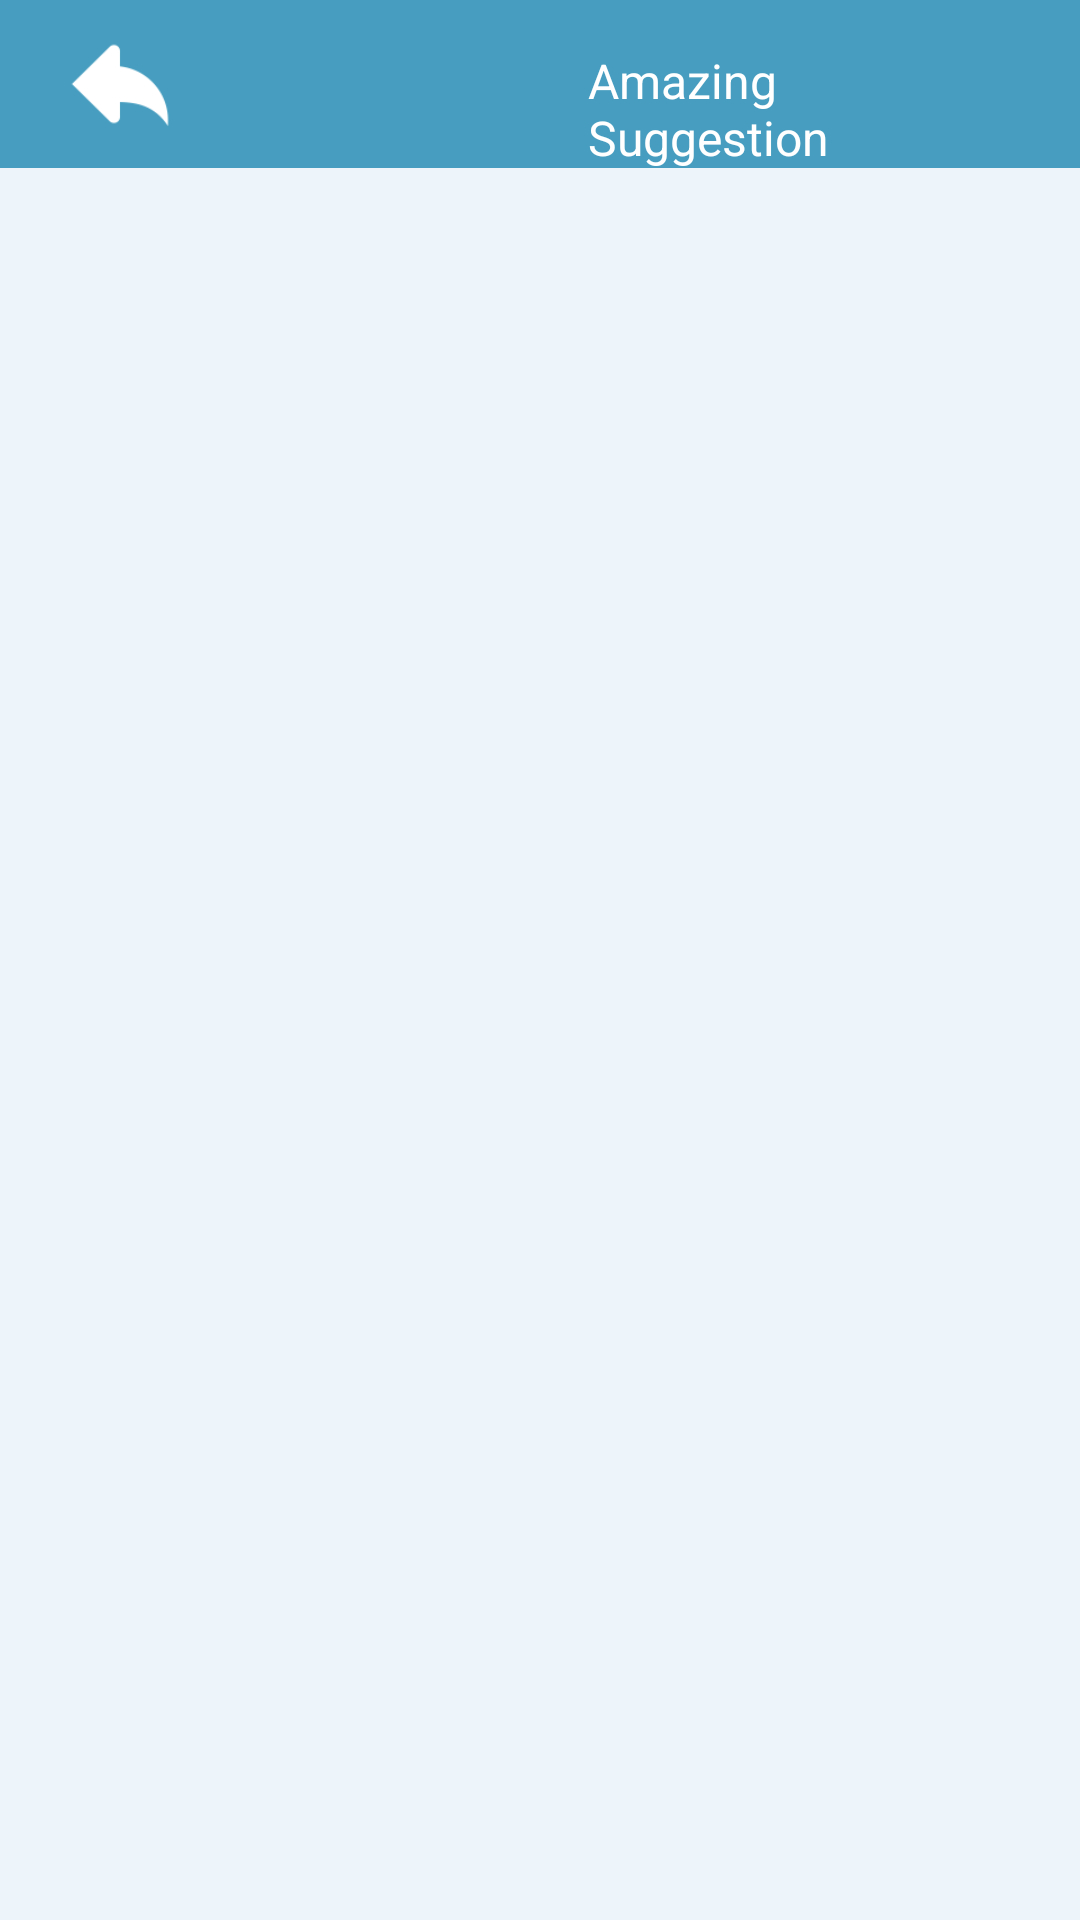

Where to tap for icons on this 1080w x 1920h app screen, as (x=x, y=y):
back: (x=120, y=85)
